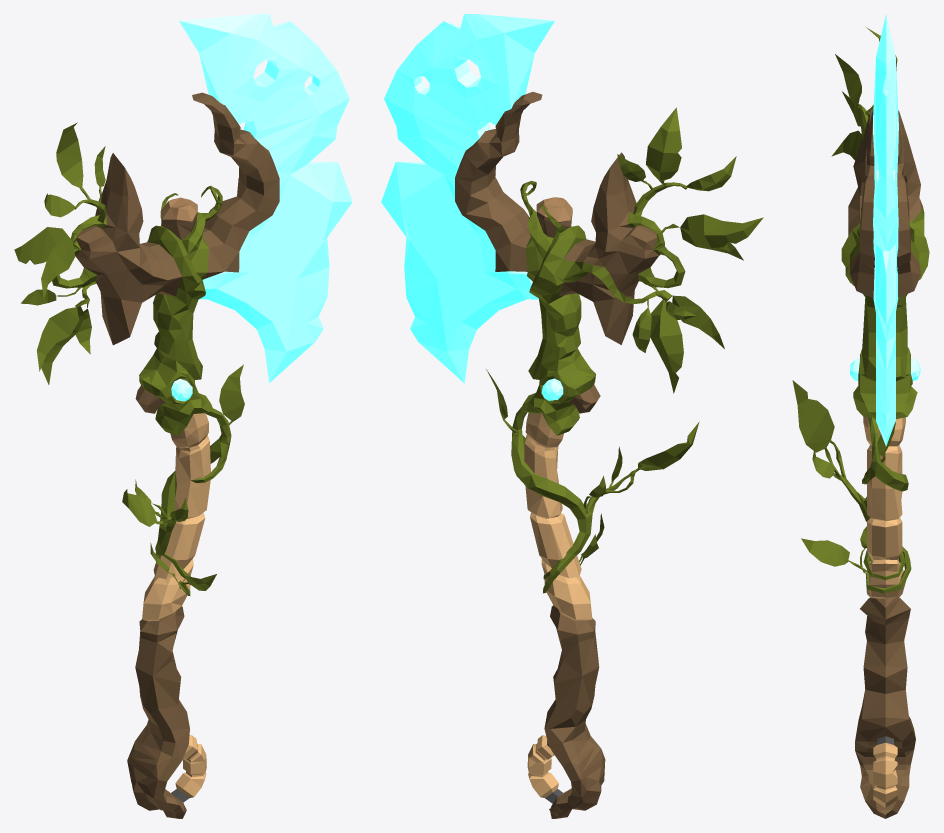
The model's file is SFNP_Axe_001.fbx.
3 views of the same model, side by side, from view 1: azimuth 30°, elevation 25°; view 2: azimuth 150°, elevation 25°; view 3: azimuth 270°, elevation 25° (orthographic).
Visible parts, largest first — view 1: SFNP_Axe_001; view 2: SFNP_Axe_001; view 3: SFNP_Axe_001.
Boxes of the visible parts, <box> form: SFNP_Axe_001: <box>14,14,352,818</box>; SFNP_Axe_001: <box>381,14,763,818</box>; SFNP_Axe_001: <box>792,14,929,818</box>.
Bounding box in the file's own units: 52.29 × 111 × 17.06.
